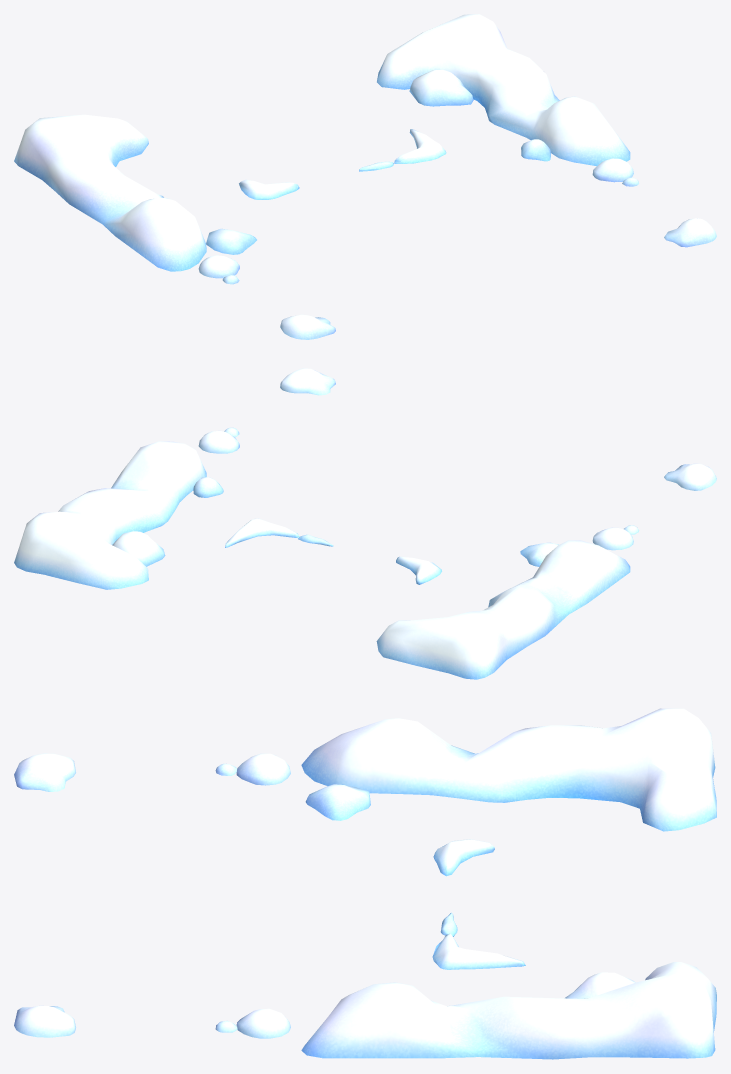
File: obj_snow.gltf
The picture shows the model from 3 angles, top to bottom: view 1: azimuth 30°, elevation 25°; view 2: azimuth 150°, elevation 25°; view 3: azimuth 270°, elevation 25°; orthographic projection. The views are drawn at different scales.
Parts seen in each view (by area): view 1: obj_snow; view 2: obj_snow; view 3: obj_snow.
Part boxes in pixels (x1=…): obj_snow: x1=14, y1=14, x2=716, y2=339; obj_snow: x1=14, y1=368, x2=716, y2=679; obj_snow: x1=14, y1=708, x2=716, y2=1059.
Size of what is drawn, in the model's own units: 15.71 by 1.58 by 15.2.
Materials: 1 (1 with a texture image).
